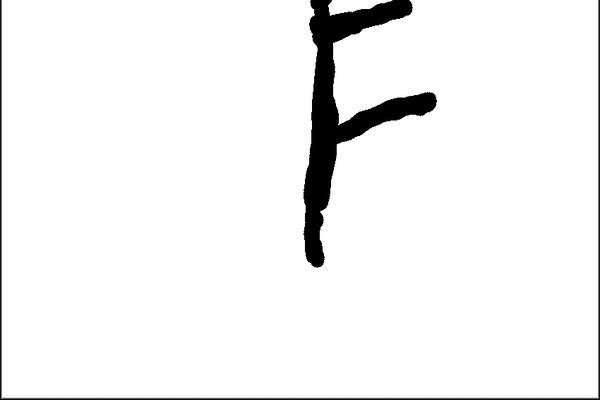F: (296, 2, 440, 272)
